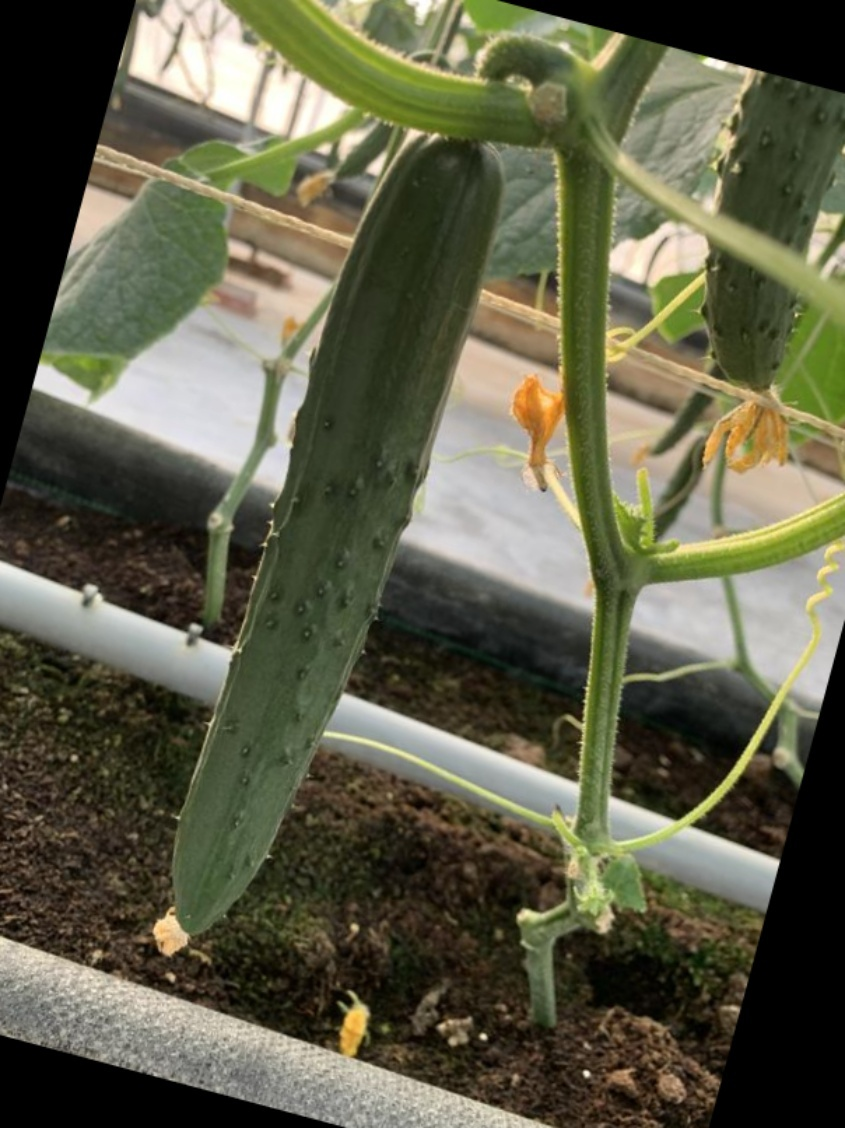mature: (114, 116, 533, 941)
